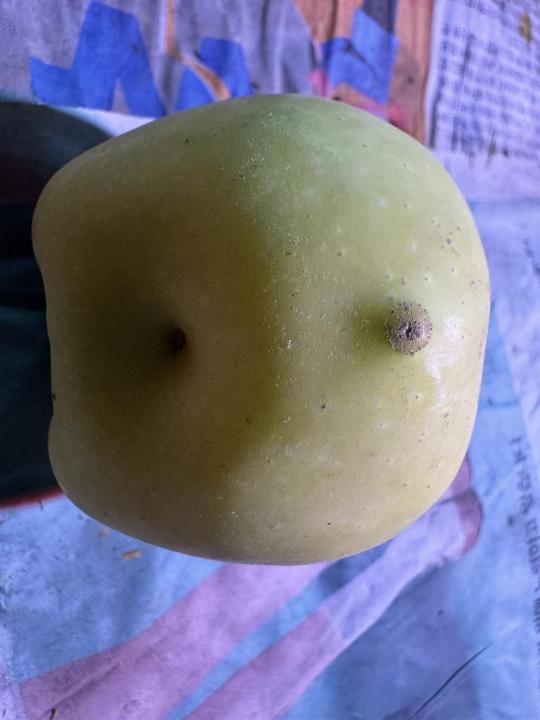apple: (33, 95, 489, 565)
bruise_discoloration: (386, 299, 434, 354)
